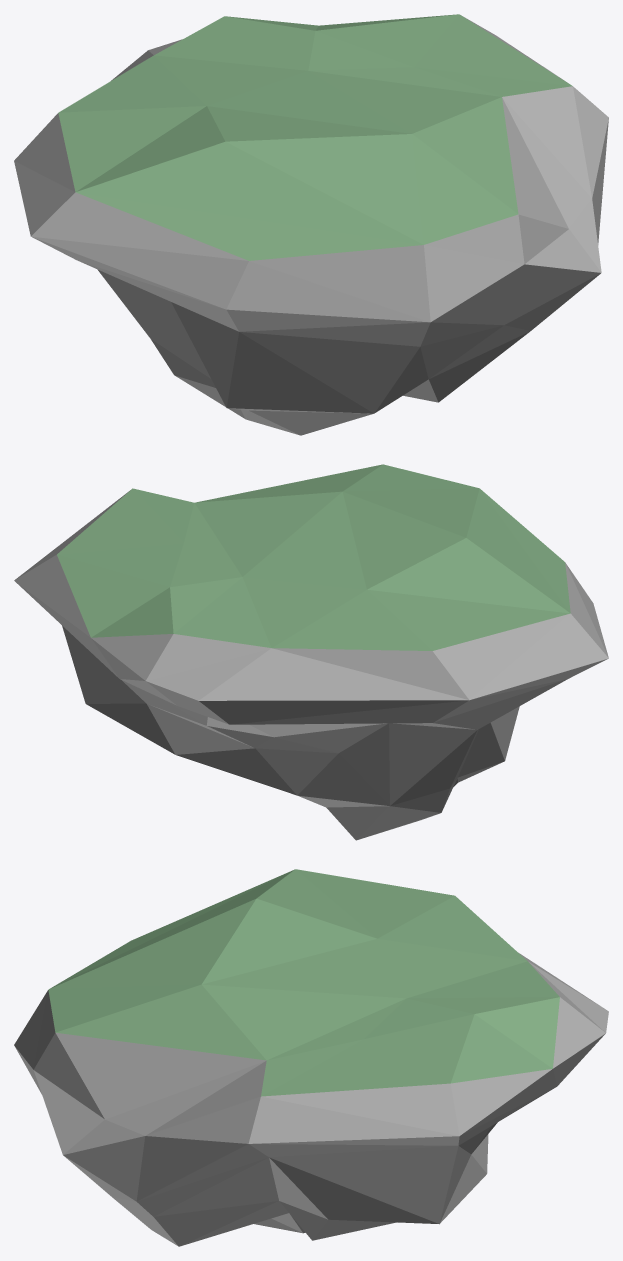
Rendered from S_Island4.fbx.
3 renders of one model, top to bottom at view 1: azimuth 30°, elevation 25°; view 2: azimuth 150°, elevation 25°; view 3: azimuth 270°, elevation 25°, orthographic. The views are drawn at different scales.
Visible parts, largest first — view 1: Island4; view 2: Island4; view 3: Island4.
Part boxes in pixels (x1=…): Island4: x1=14, y1=14, x2=608, y2=435; Island4: x1=14, y1=464, x2=608, y2=840; Island4: x1=14, y1=869, x2=608, y2=1246.
Size of the model in its own units: 51 by 26.28 by 48.6.
